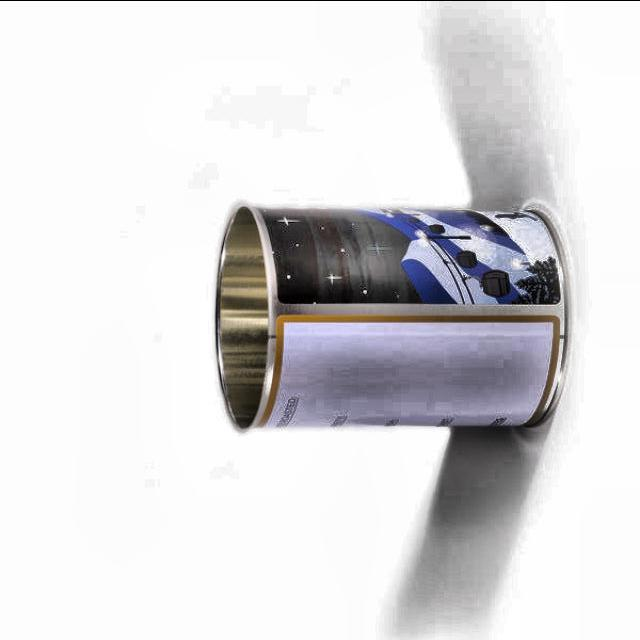Aluminum Can: (202, 189, 576, 440)
